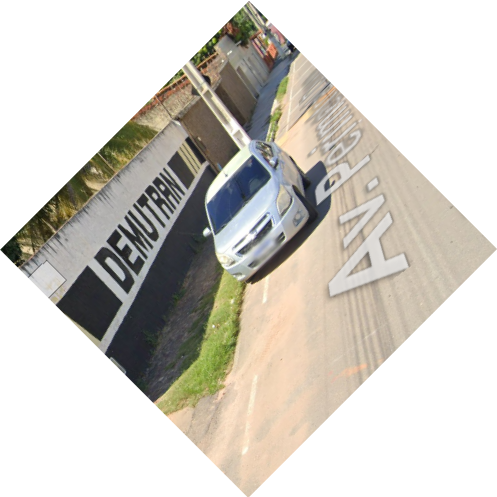car: (189, 136, 329, 285)
